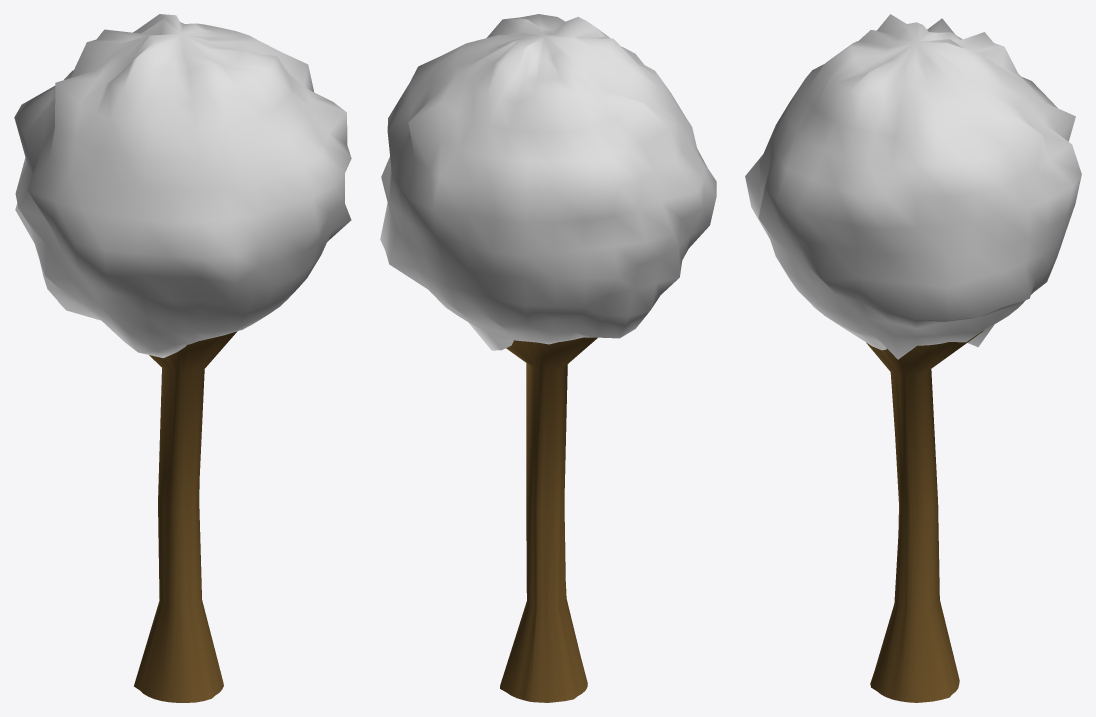
Rendered from Tree.fbx.
3 renders of one model, left to right at view 1: azimuth 30°, elevation 25°; view 2: azimuth 150°, elevation 25°; view 3: azimuth 270°, elevation 25°, orthographic.
Visible parts, largest first — view 1: Tree; view 2: Tree; view 3: Tree.
Part boxes in pixels (<box>): Tree: <box>14,14,351,702</box>; Tree: <box>380,14,716,702</box>; Tree: <box>745,14,1081,702</box>.
Size of the model in its own units: 0.7448 by 1.58 by 0.7458.
